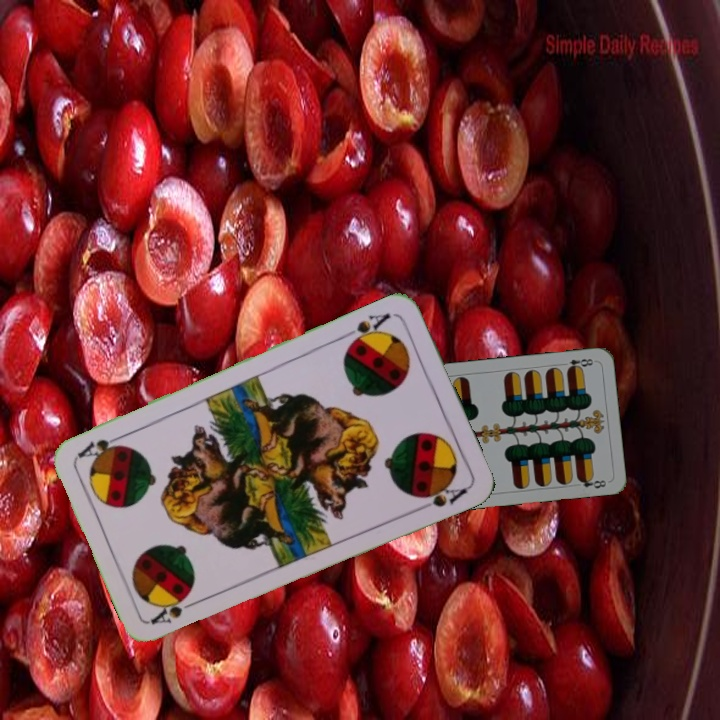E8: (557, 355, 598, 373)
SA: (339, 309, 393, 349), (147, 592, 203, 628)
